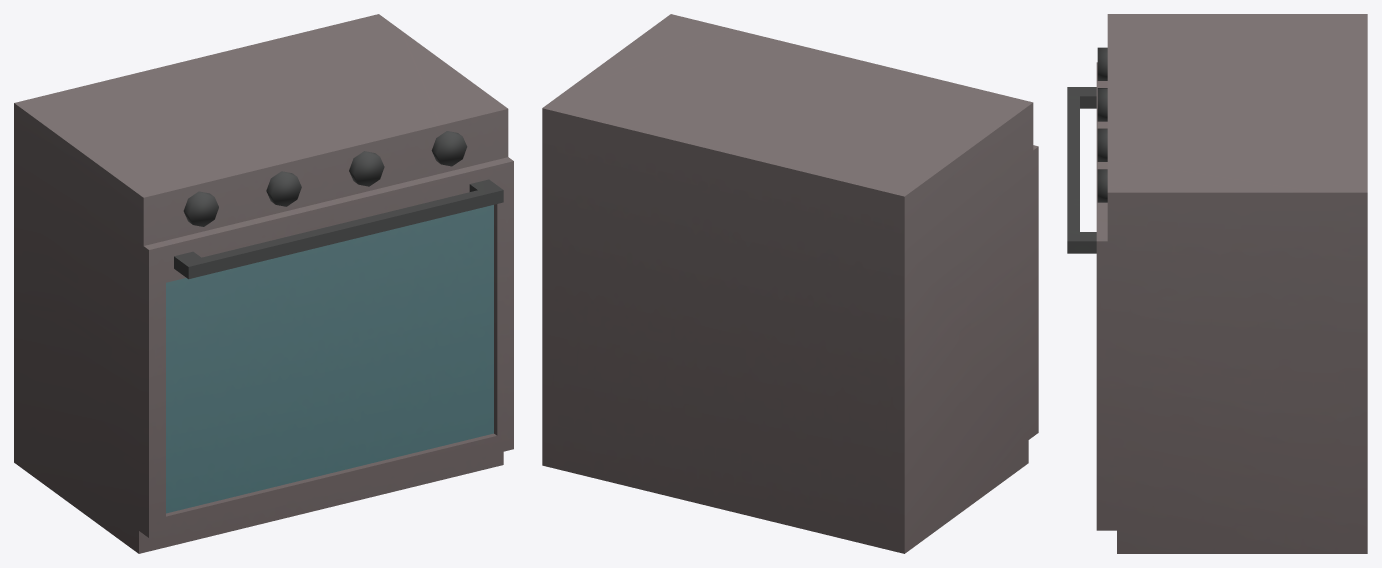
File: Oven.fbx
The picture shows the model from 3 angles, left to right: view 1: azimuth 30°, elevation 25°; view 2: azimuth 150°, elevation 25°; view 3: azimuth 270°, elevation 25°; orthographic projection.
Parts seen in each view (by area): view 1: Kit_1_Oven; view 2: Kit_1_Oven; view 3: Kit_1_Oven.
Part boxes in pixels (x1=…): Kit_1_Oven: x1=14, y1=14, x2=513, y2=553; Kit_1_Oven: x1=542, y1=14, x2=1038, y2=553; Kit_1_Oven: x1=1067, y1=14, x2=1367, y2=553.
Bounding box in the file's own units: 82.46 × 77.67 × 58.58.
